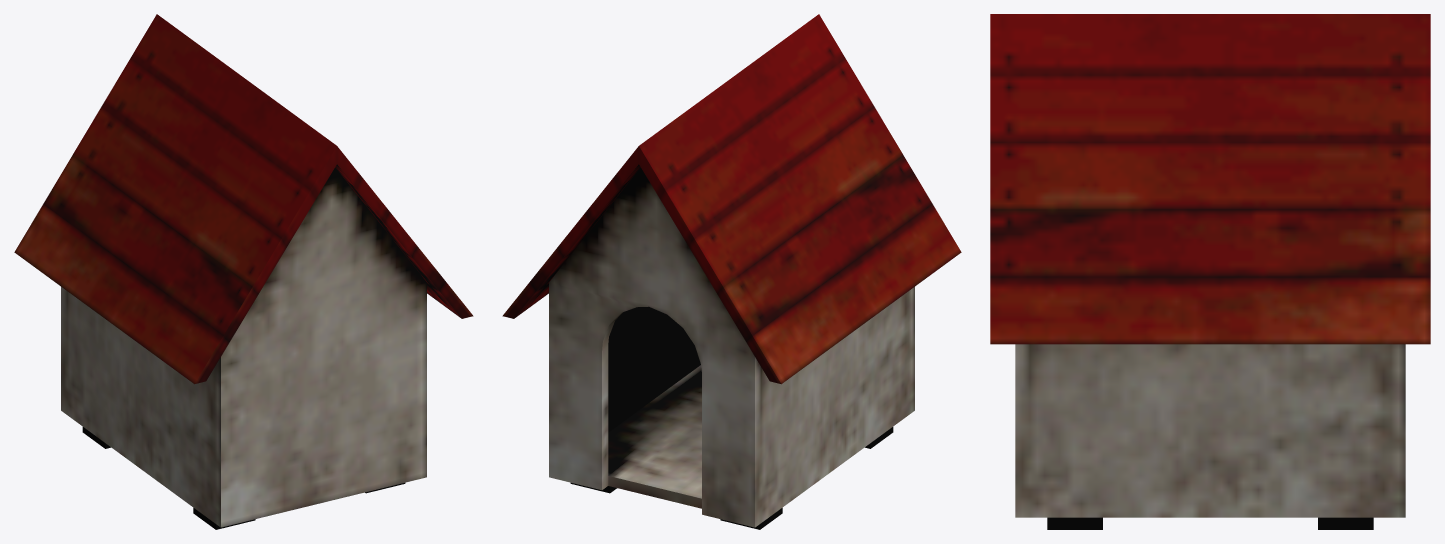
The model's file is icon.obj.
3 views of the same model, side by side, from view 1: azimuth 30°, elevation 25°; view 2: azimuth 150°, elevation 25°; view 3: azimuth 270°, elevation 25° (orthographic). The views are drawn at different scales.
Size of the model in its own units: 0.5799 by 0.7491 by 0.6481.
1 material, 1 textured.
